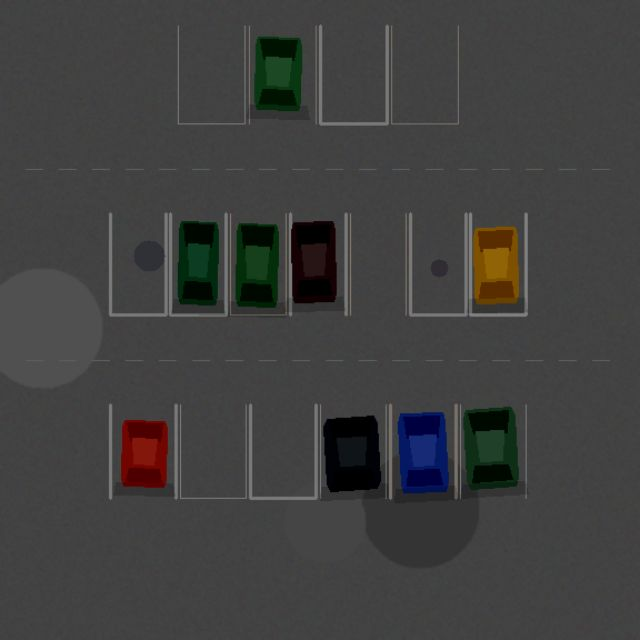space-empty: (320, 26, 387, 123), (391, 26, 458, 123), (178, 26, 244, 123), (180, 404, 246, 498), (250, 404, 316, 498), (110, 213, 166, 314), (350, 213, 406, 314), (410, 213, 466, 314)
space-occupied: (249, 26, 316, 123), (110, 404, 176, 498), (320, 404, 386, 498), (390, 404, 456, 498), (460, 404, 526, 498), (170, 213, 226, 314), (230, 213, 286, 314), (290, 213, 346, 314), (470, 213, 526, 314)
